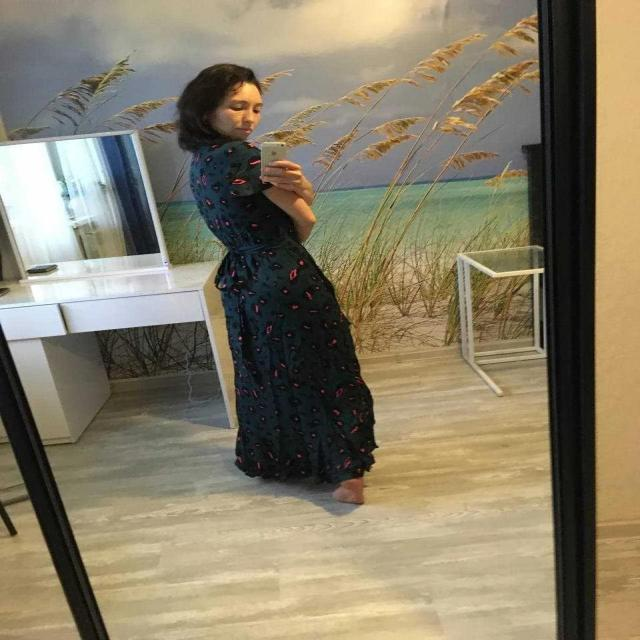clothes: (135, 129, 417, 503)
